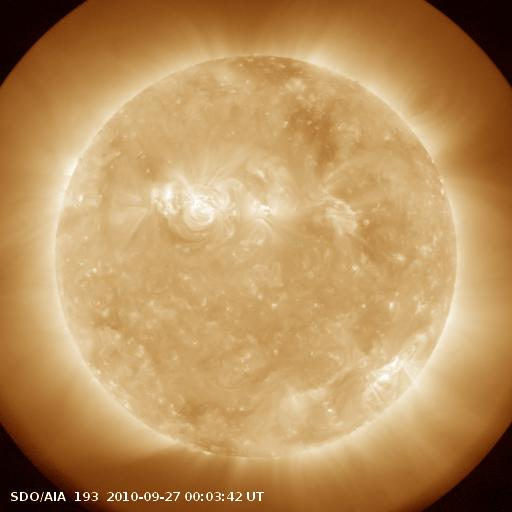coronal_hole: (219, 52, 345, 167)
